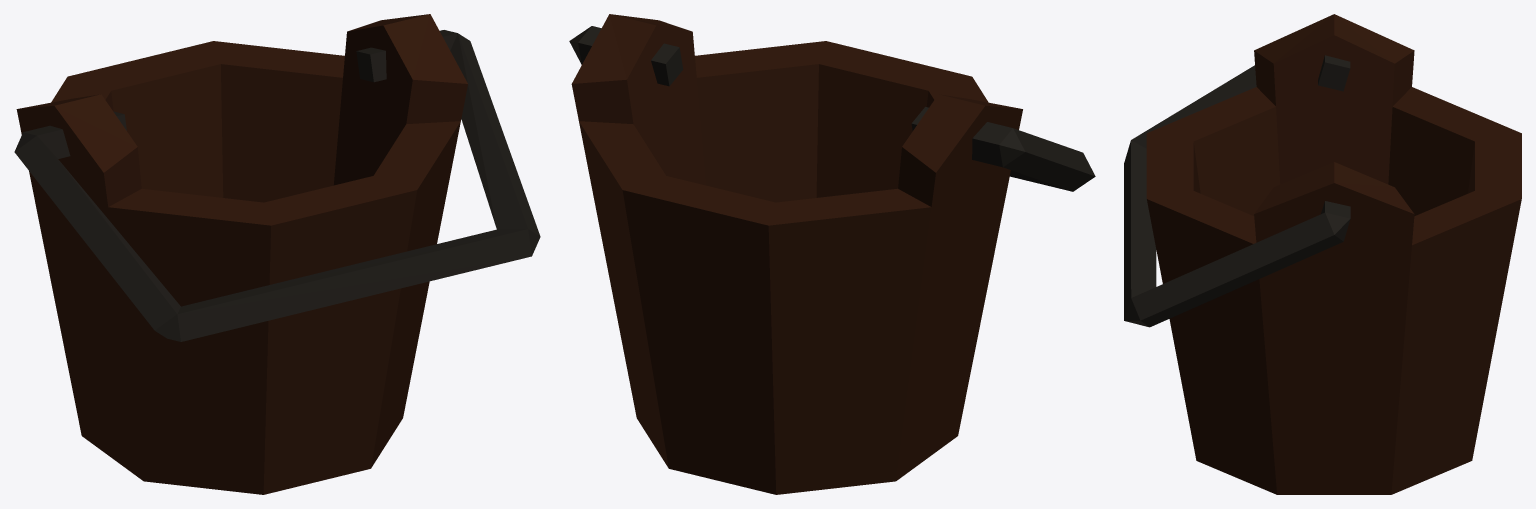
Rendered from Set-Dressing-Bucket.FBX.
The picture shows the model from 3 angles, left to right: view 1: azimuth 30°, elevation 25°; view 2: azimuth 150°, elevation 25°; view 3: azimuth 270°, elevation 25°; orthographic projection. The views are drawn at different scales.
Parts seen in each view (by area): view 1: Set-Dressing-Bucket; view 2: Set-Dressing-Bucket; view 3: Set-Dressing-Bucket.
Boxes of the visible parts, x1,y1,x2,y2 form: Set-Dressing-Bucket: [14, 14, 540, 494]; Set-Dressing-Bucket: [569, 14, 1095, 494]; Set-Dressing-Bucket: [1124, 14, 1521, 494].
Bounding box in the file's own units: 6.5 × 5 × 5.33.
